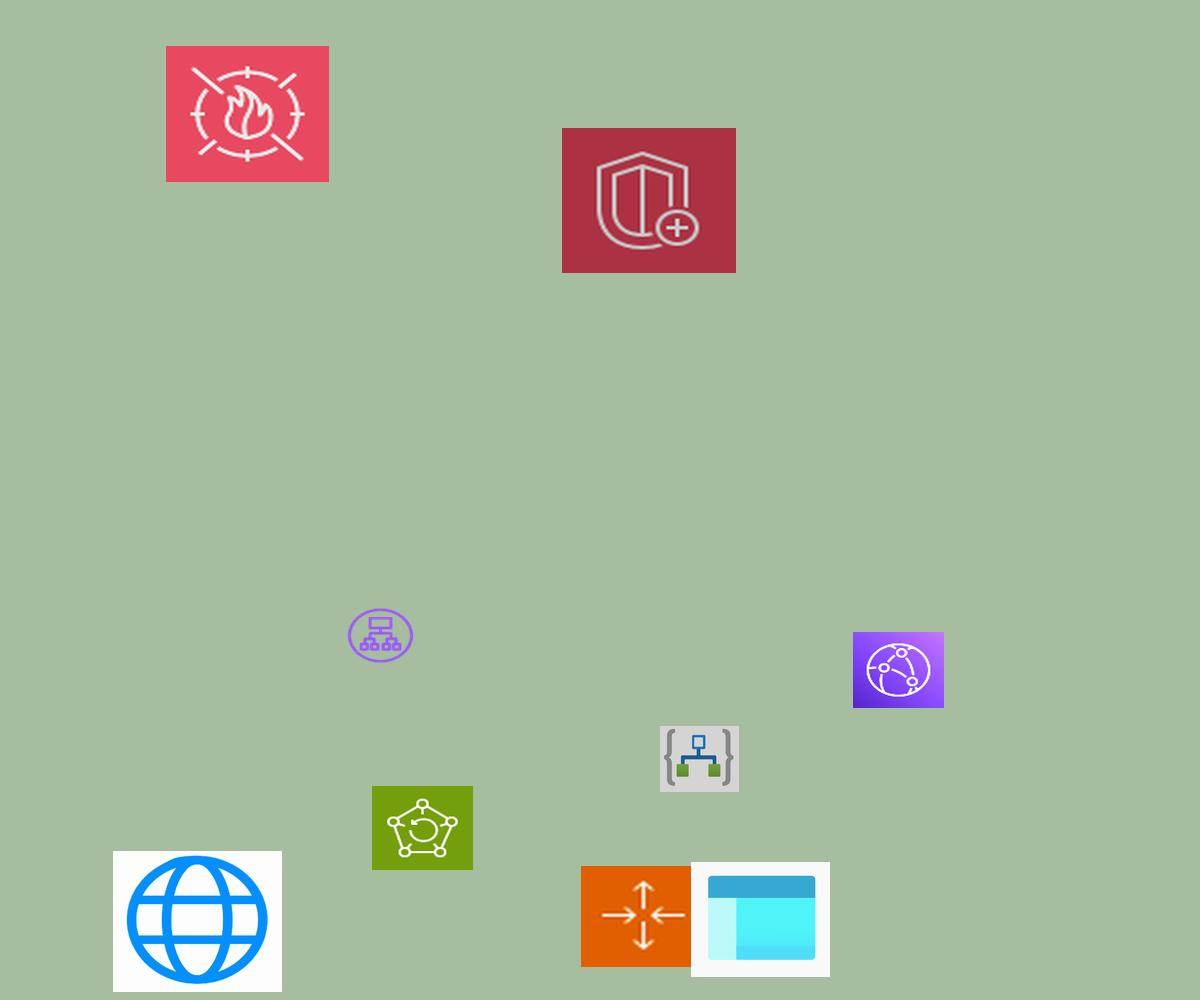AWS-Backup: (372, 786, 473, 870)
AWS-CloudFront: (853, 632, 944, 708)
AWS-Res_Elastic-Load-Balancing_Application-Load-Balancer: (345, 606, 416, 665)
AWS-Scaling-group: (581, 866, 703, 967)
AWS-Shield: (562, 128, 736, 273)
AWS-WAF: (166, 46, 329, 182)
Azure_http: (113, 851, 282, 992)
Azure_integration-204-Logic-Apps: (660, 726, 739, 792)
Azure_management-portal: (691, 862, 830, 977)
